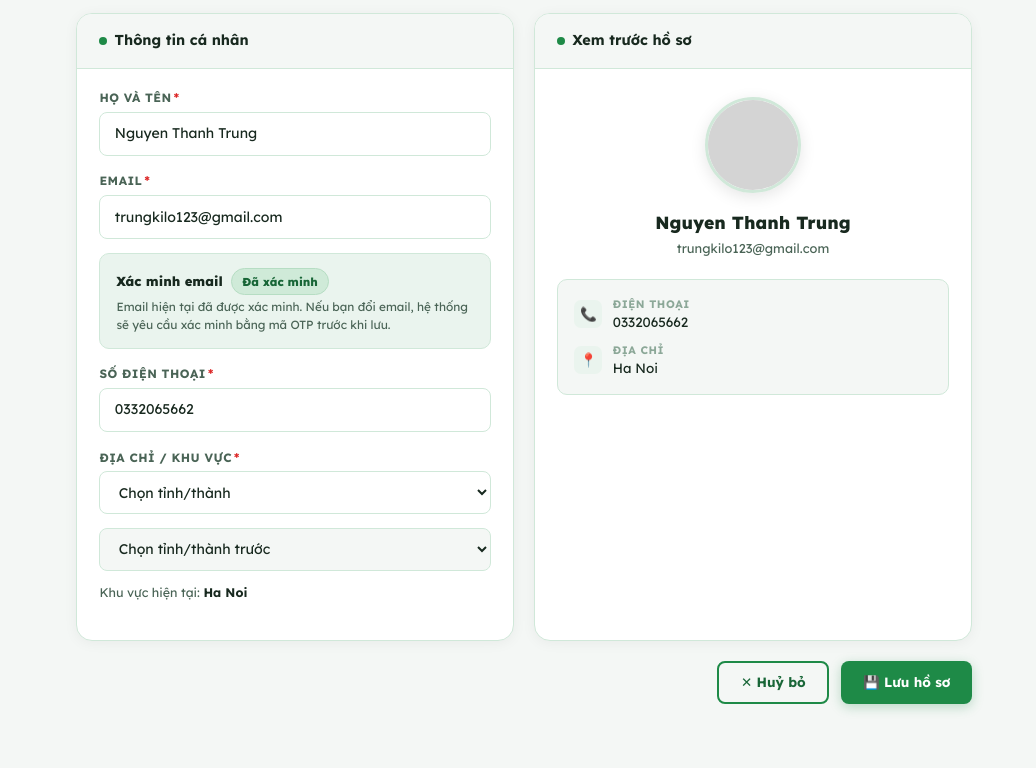
Scenario: ProfileEdit › shows a friendly message when backend returns a generic entity save error
This screenshot has width=1036, height=768.
(page scrolled)
Expected: the field named "FullName" below "Họ và tên" is shown, [99,112,491,156]
Click the submit button: (907, 683) [841,661,972,704]
(page scrolled)
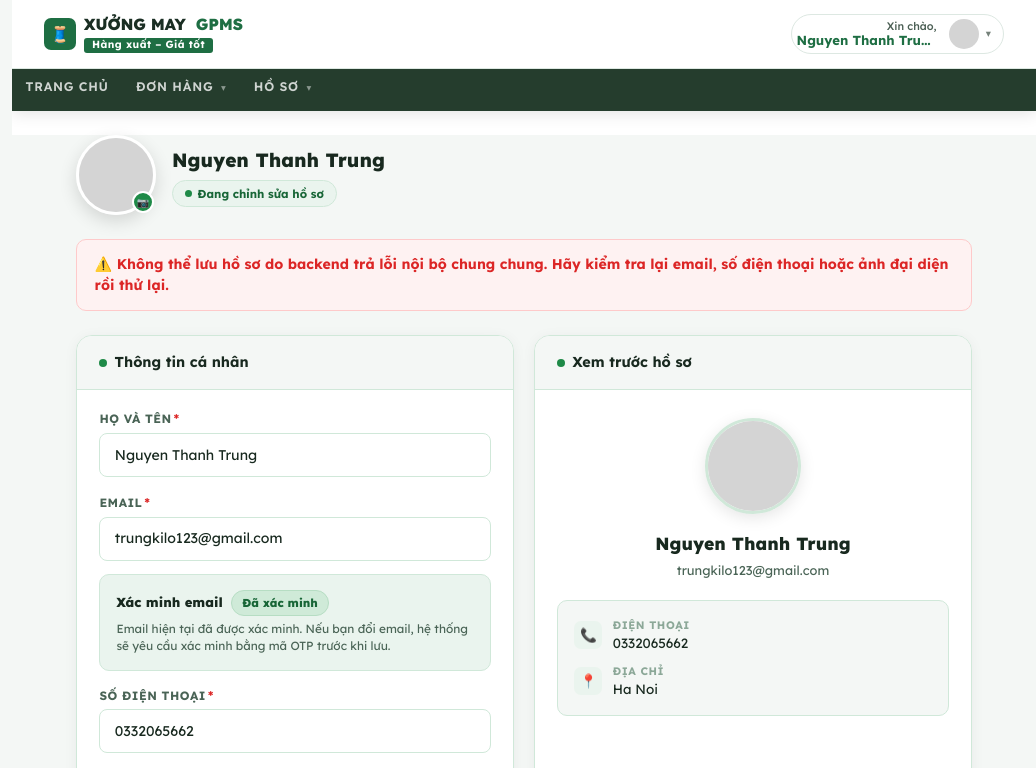
Now the text "Không thể lưu hồ sơ do backend trả lỗi nội bộ chung chung." is shown, box [95,255,948,294]
